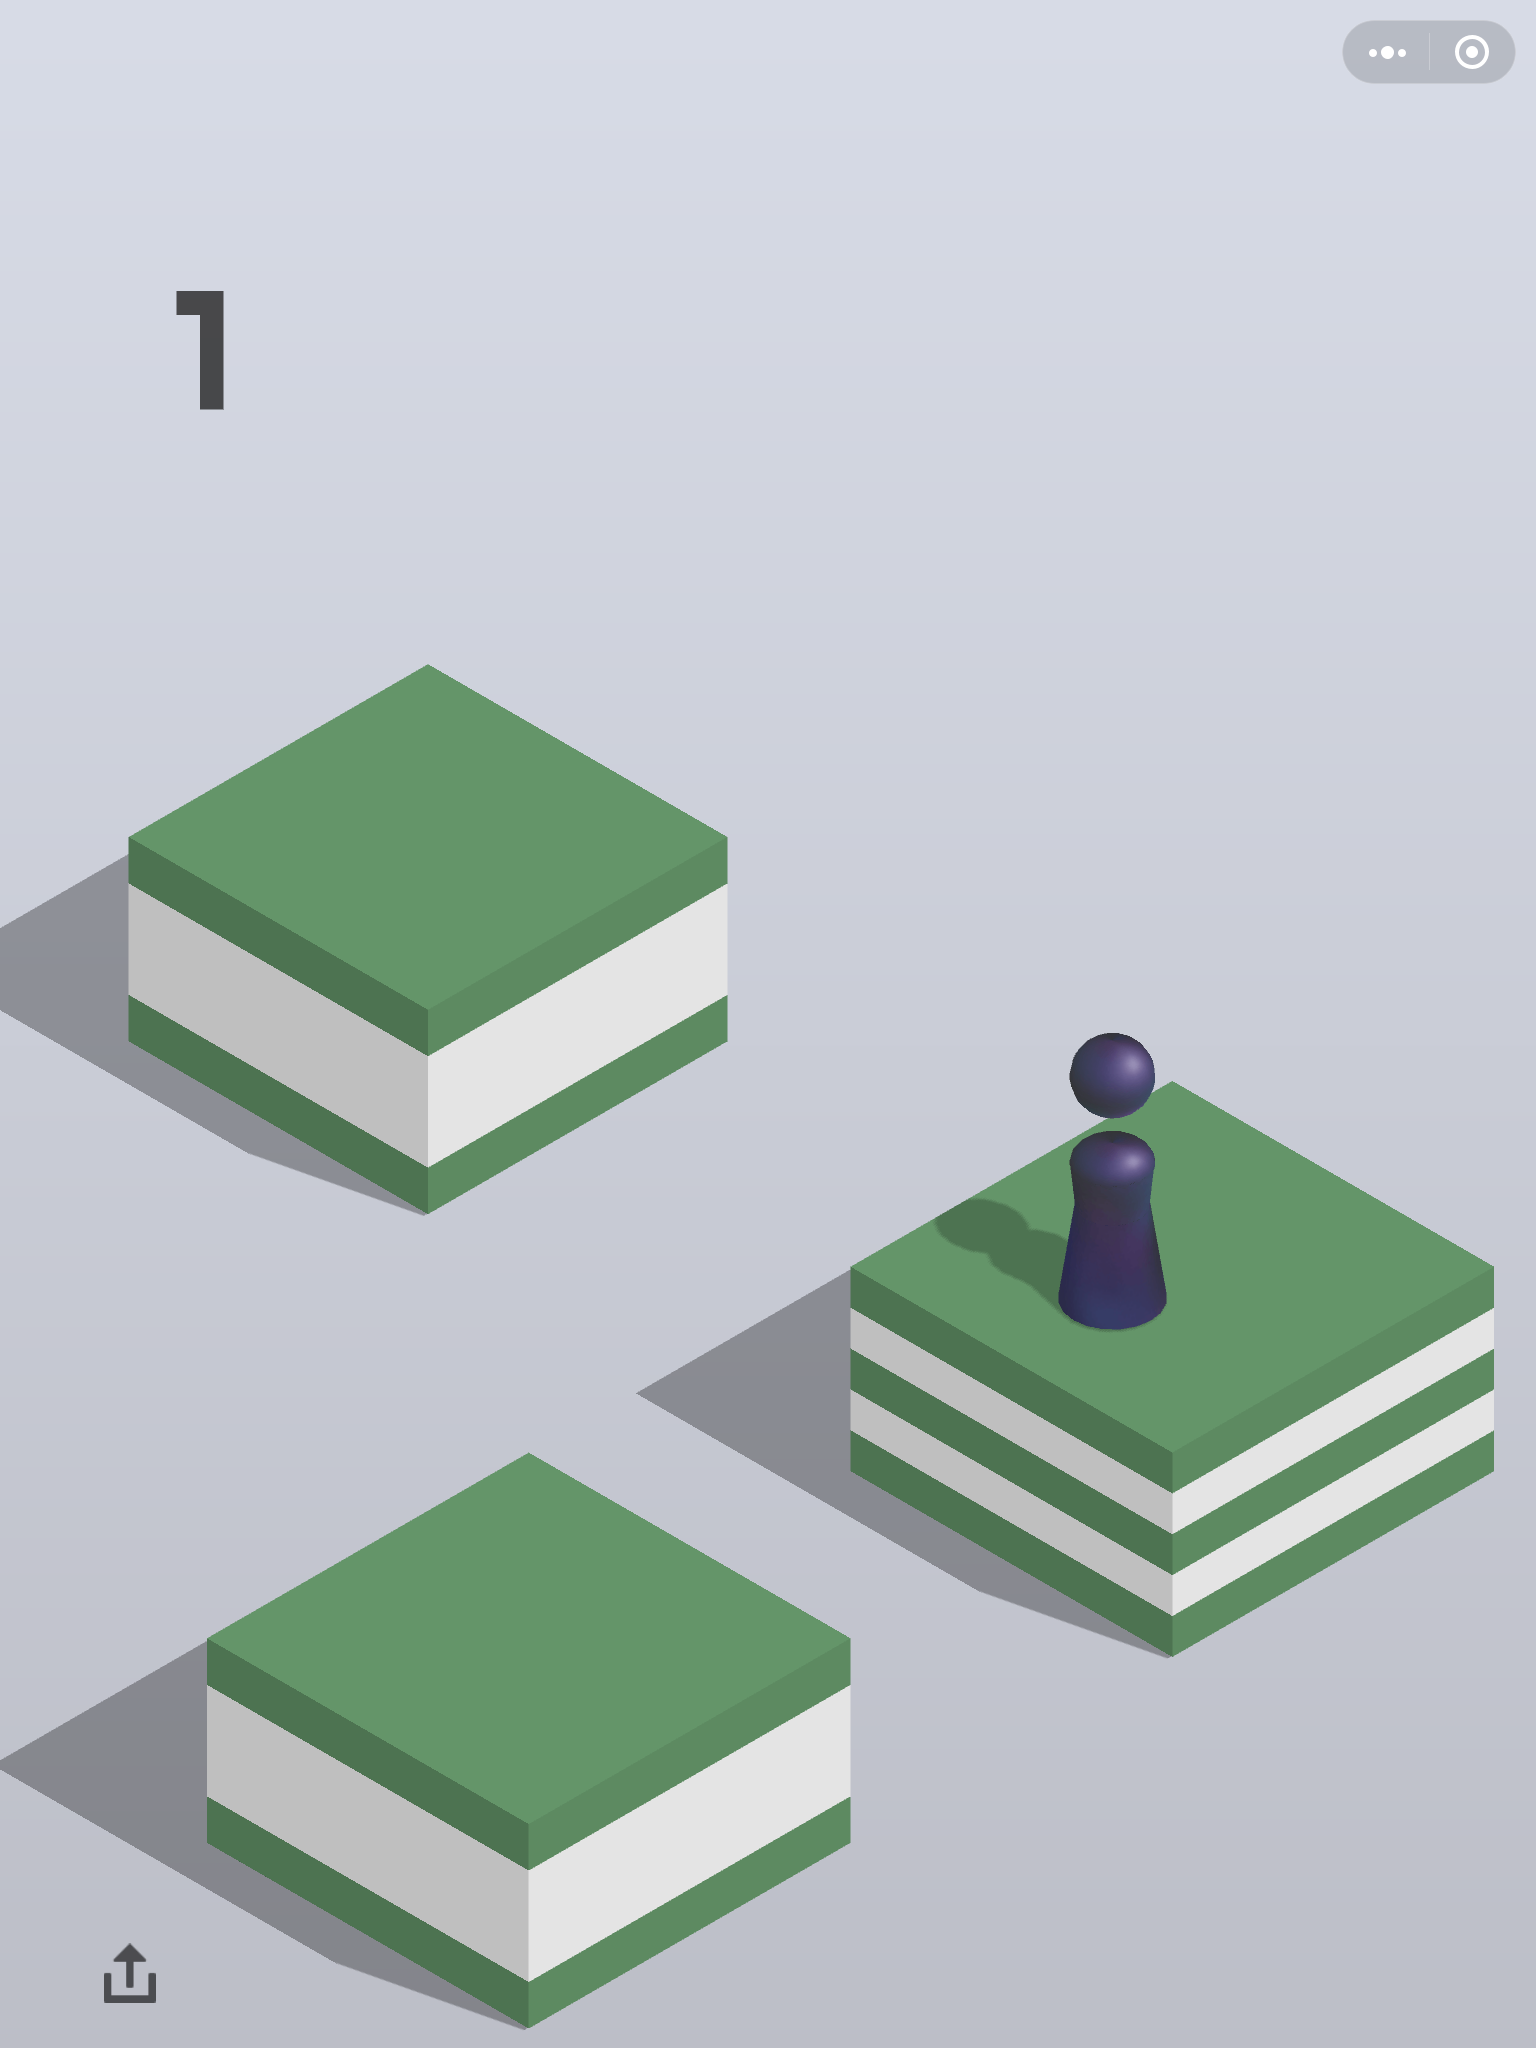f: (195, 1447, 862, 2042), (841, 1079, 1504, 1659), (123, 660, 734, 1218)
r: (1057, 1024, 1173, 1340)
